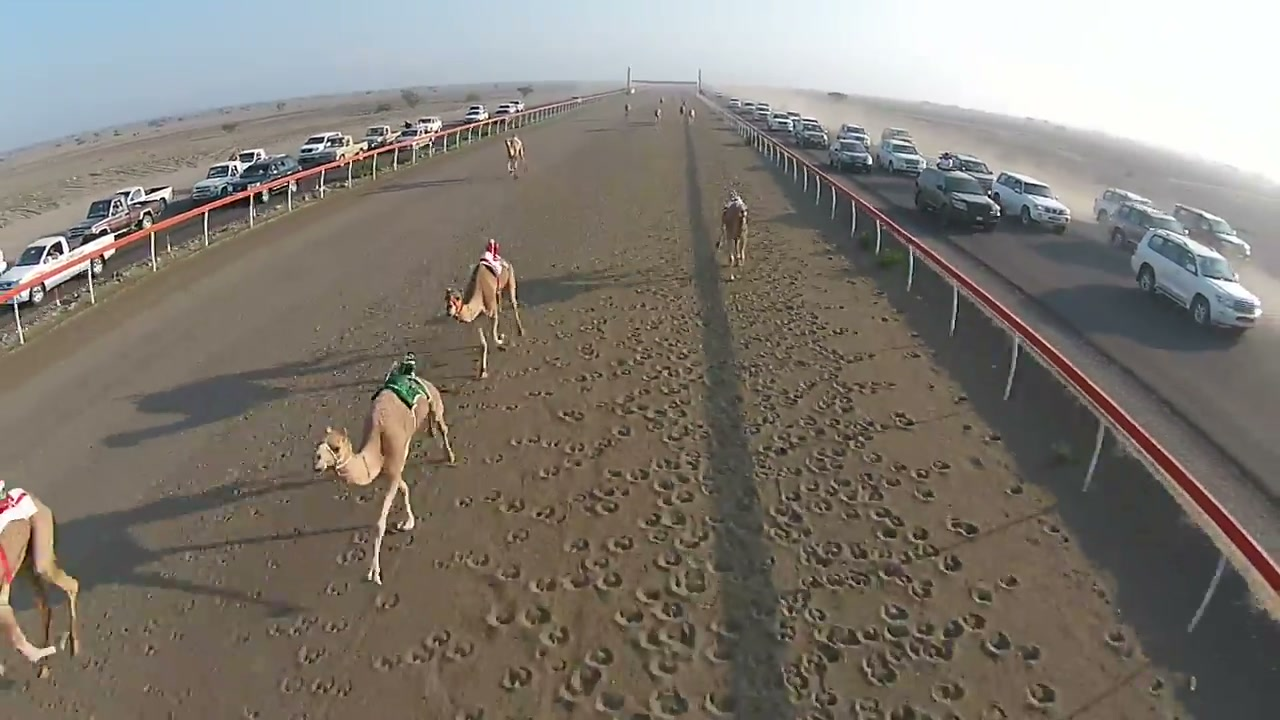animal_foot_print: (228, 138, 1147, 719)
